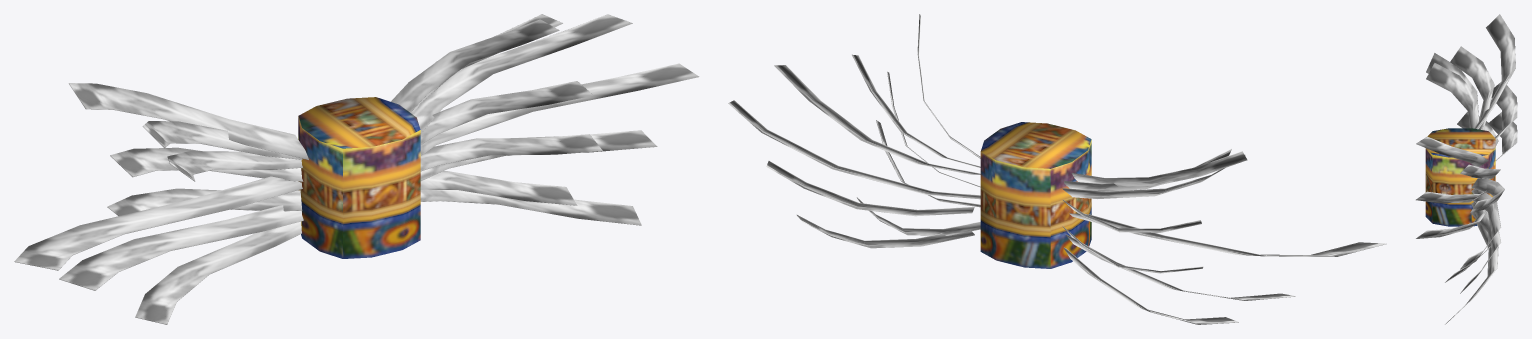
The model's file is helmet_hero_divino.dae.
3 renders of one model, left to right at view 1: azimuth 30°, elevation 25°; view 2: azimuth 150°, elevation 25°; view 3: azimuth 270°, elevation 25°, orthographic. The views are drawn at different scales.
Parts seen in each view (by area): view 1: helmet_hero_divino; view 2: helmet_hero_divino; view 3: helmet_hero_divino.
Boxes of the visible parts, box(x1,y1,x2,y2) form: helmet_hero_divino: box(14, 14, 699, 324); helmet_hero_divino: box(728, 14, 1386, 324); helmet_hero_divino: box(1416, 14, 1517, 324).
Bounding box in the file's own units: 3.51 × 0.7024 × 1.16.
